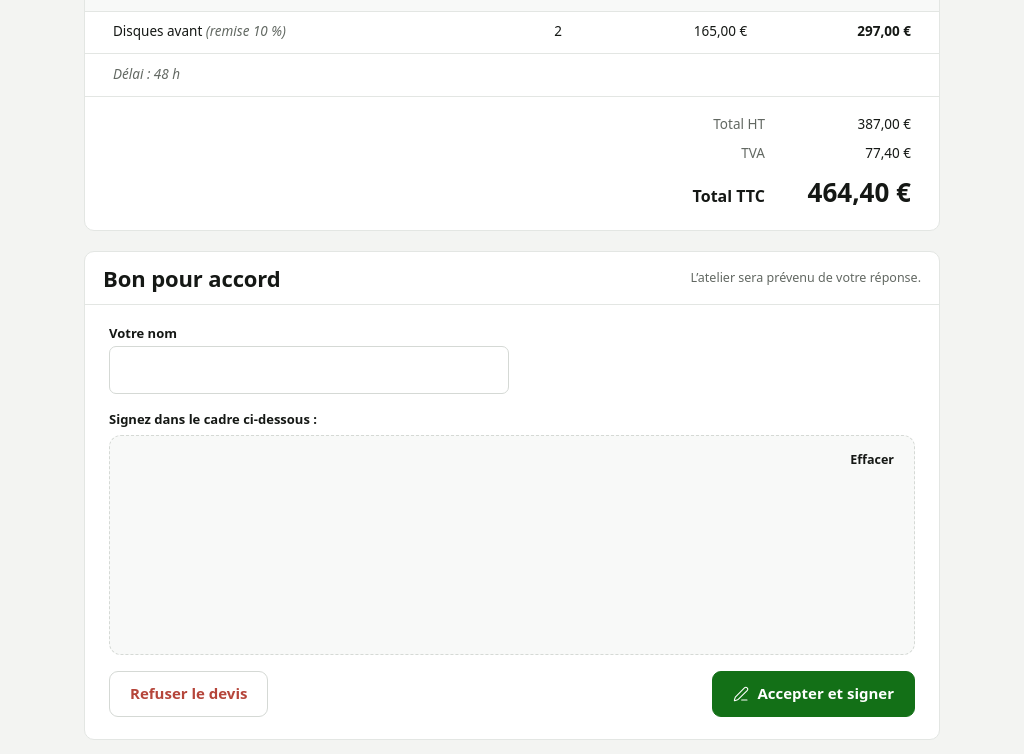
devis en ligne (client, sans compte) › erreur renvoyée par le serveur affichée au client
(page scrolled)
Step 1. Type "Jean" into the field labelled "Votre nom" → (309, 370), box [109,346,509,394]
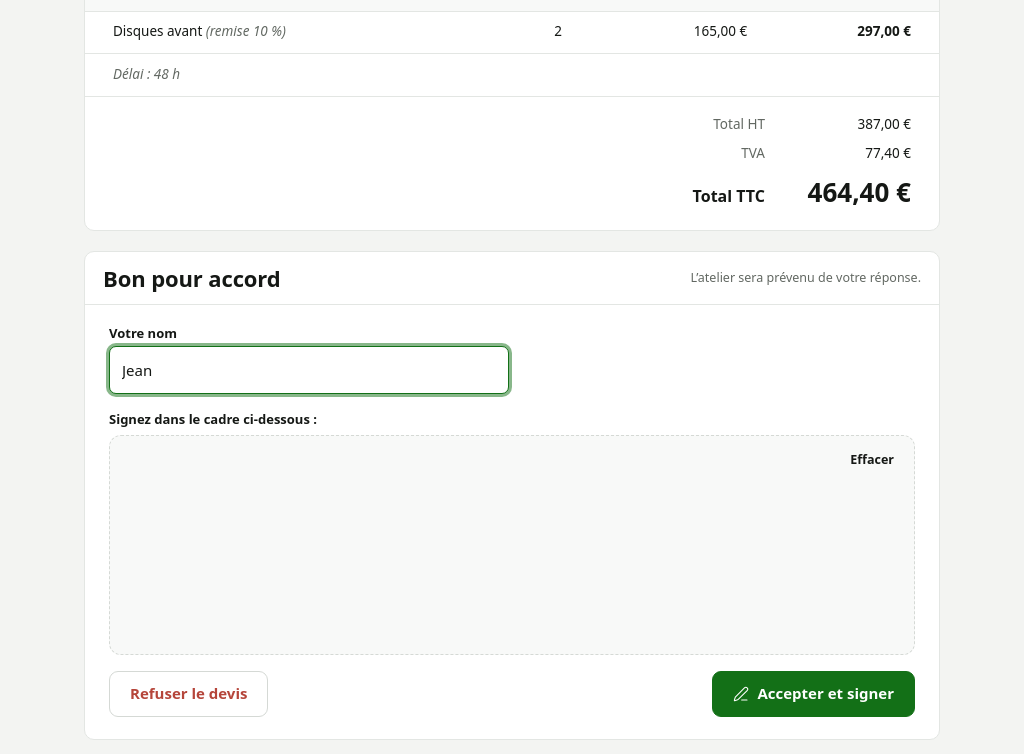
Step 2. Click the button "Accepter et signer" → (814, 694), box [712,671,915,717]
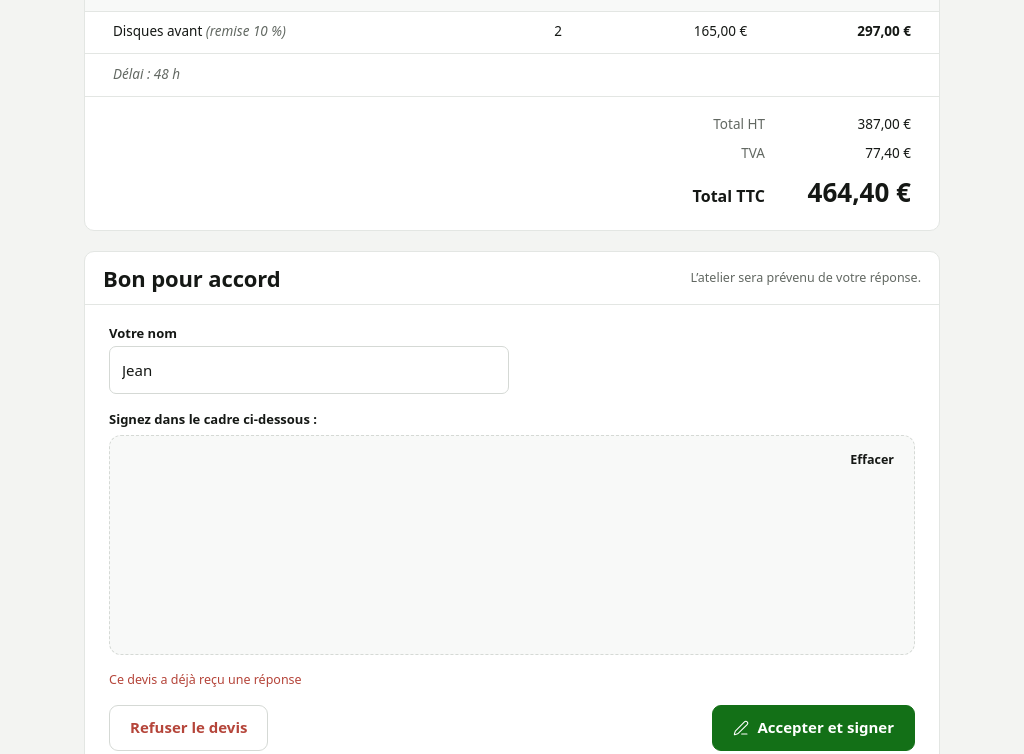
Expected: the message reads "Ce devis a déjà reçu une réponse", [109,671,302,688]
